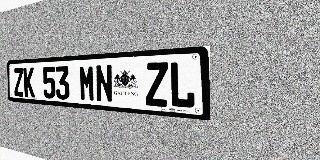3: (55, 66, 70, 100)
5: (43, 66, 56, 99)
K: (23, 67, 35, 98)
L: (169, 61, 195, 109)
M: (79, 65, 95, 102)
N: (95, 64, 113, 103)
Z: (145, 62, 169, 107), (13, 68, 24, 97)
